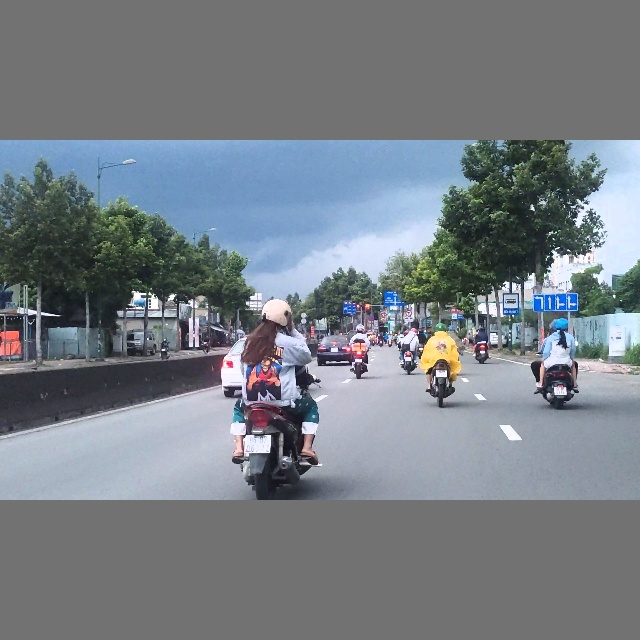I.434a: (503, 293, 519, 314)
P.137: (405, 310, 412, 316)
